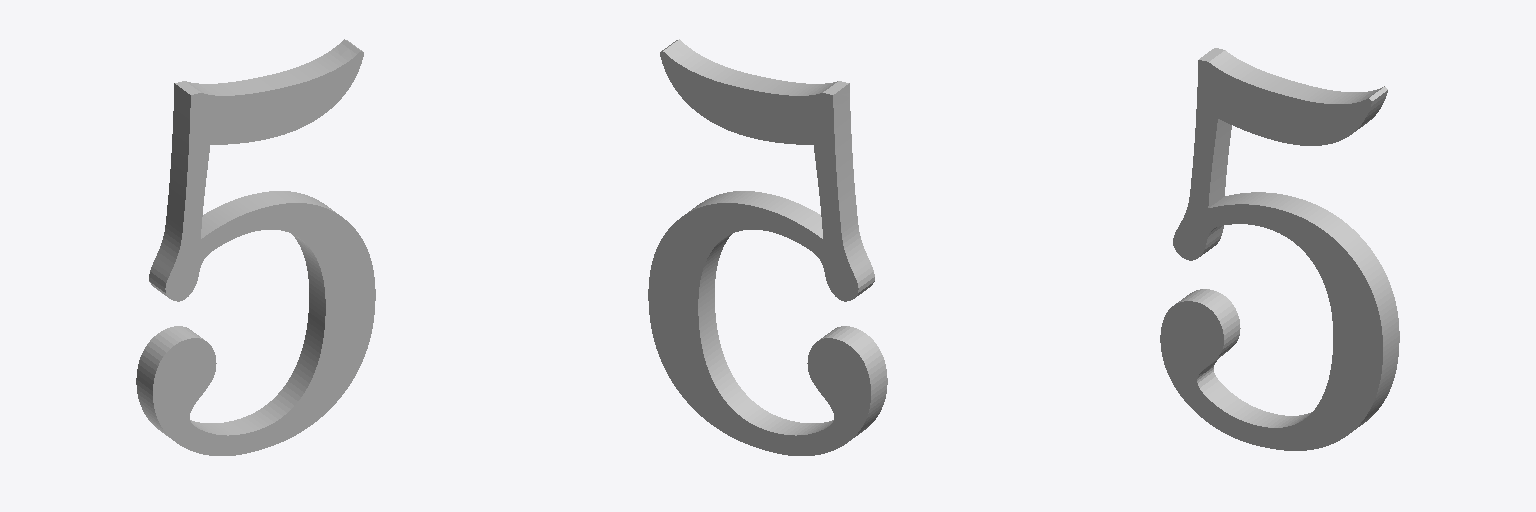
The picture shows the model from 3 angles: view 1: azimuth 30°, elevation 25°; view 2: azimuth 150°, elevation 25°; view 3: azimuth 330°, elevation 25°; orthographic projection.
Visible parts, largest first — view 1: mmGroup0.003; view 2: mmGroup0.003; view 3: mmGroup0.003.
Part boxes in pixels (bbox=[...]): mmGroup0.003: bbox=[136, 39, 375, 455]; mmGroup0.003: bbox=[648, 39, 887, 455]; mmGroup0.003: bbox=[1160, 48, 1399, 450].
Size of the model in its own units: 4.69 by 7.54 by 0.6.